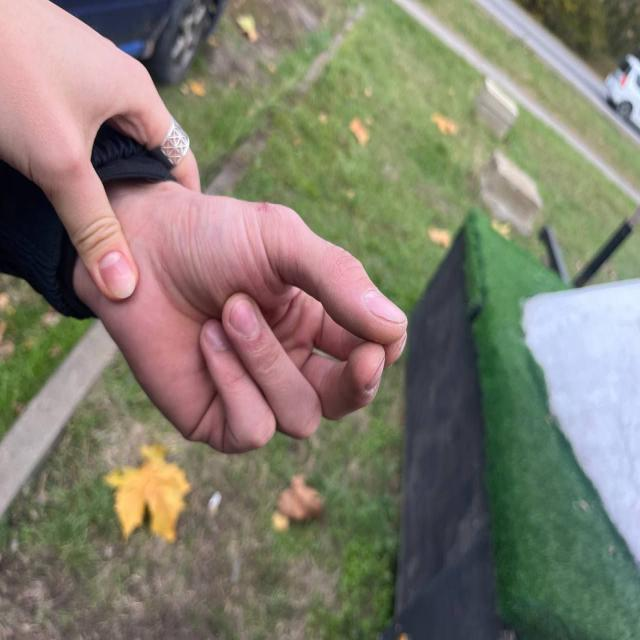ch: (144, 135, 418, 465)
